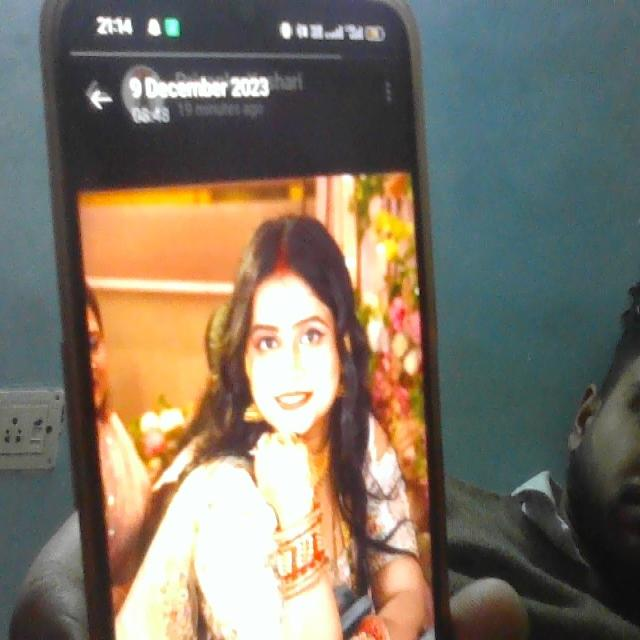fake: (228, 207, 351, 440)
